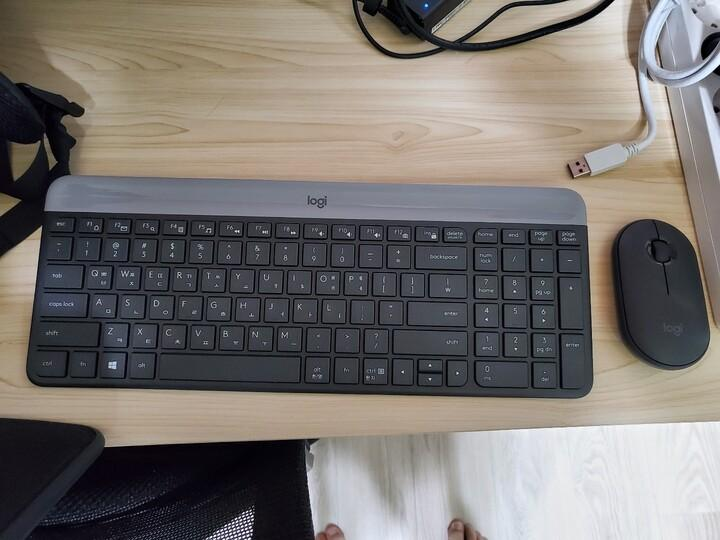keyboard: (25, 174, 594, 398)
mouse: (610, 217, 710, 371)
